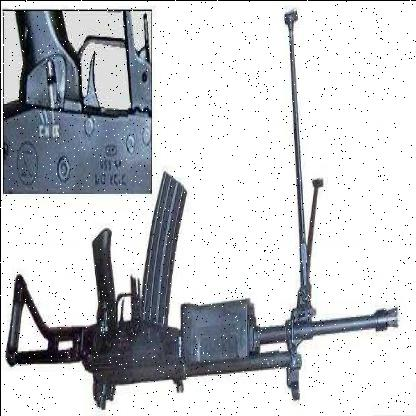rifle: (5, 162, 405, 403), (5, 1, 152, 194)
